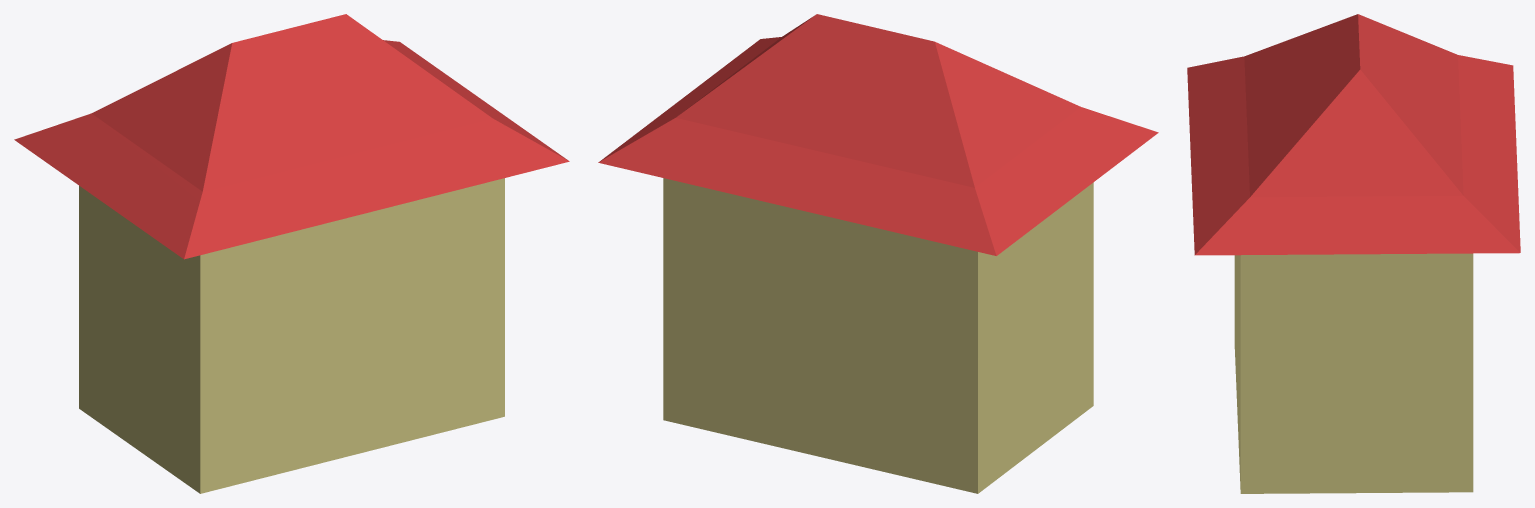
The picture shows the model from 3 angles, left to right: view 1: azimuth 30°, elevation 25°; view 2: azimuth 150°, elevation 25°; view 3: azimuth 270°, elevation 25°; orthographic projection. The views are drawn at different scales.
Size of the model in its own units: 9.62 by 7.14 by 8.91.
